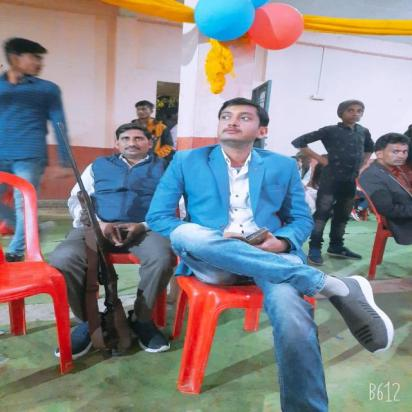Gun: (56, 121, 135, 358)
